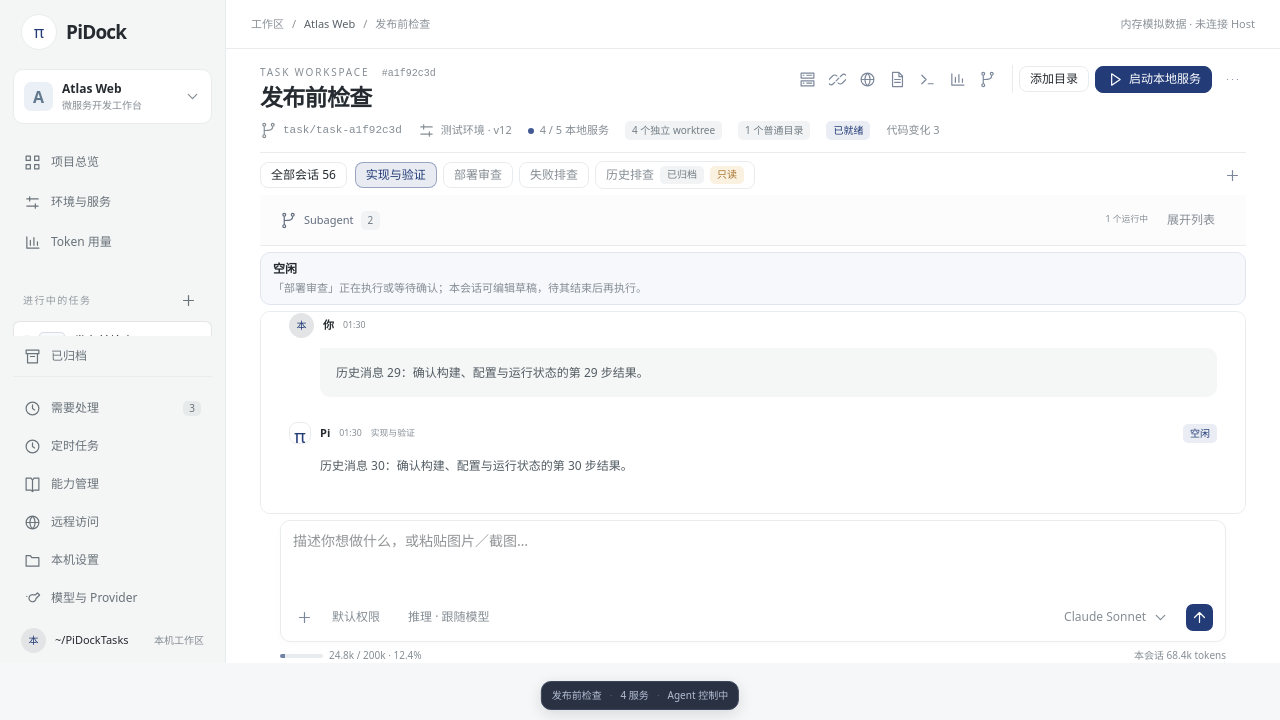
it: task tool area and file panel › shows the shared-directory warning when the link root is selected
(page scrolled)
Check: the heading "发布前检查" is shown, box [260, 81, 372, 113]
Step 1. Click the button named "文件" → click(898, 79), box [884, 65, 912, 93]
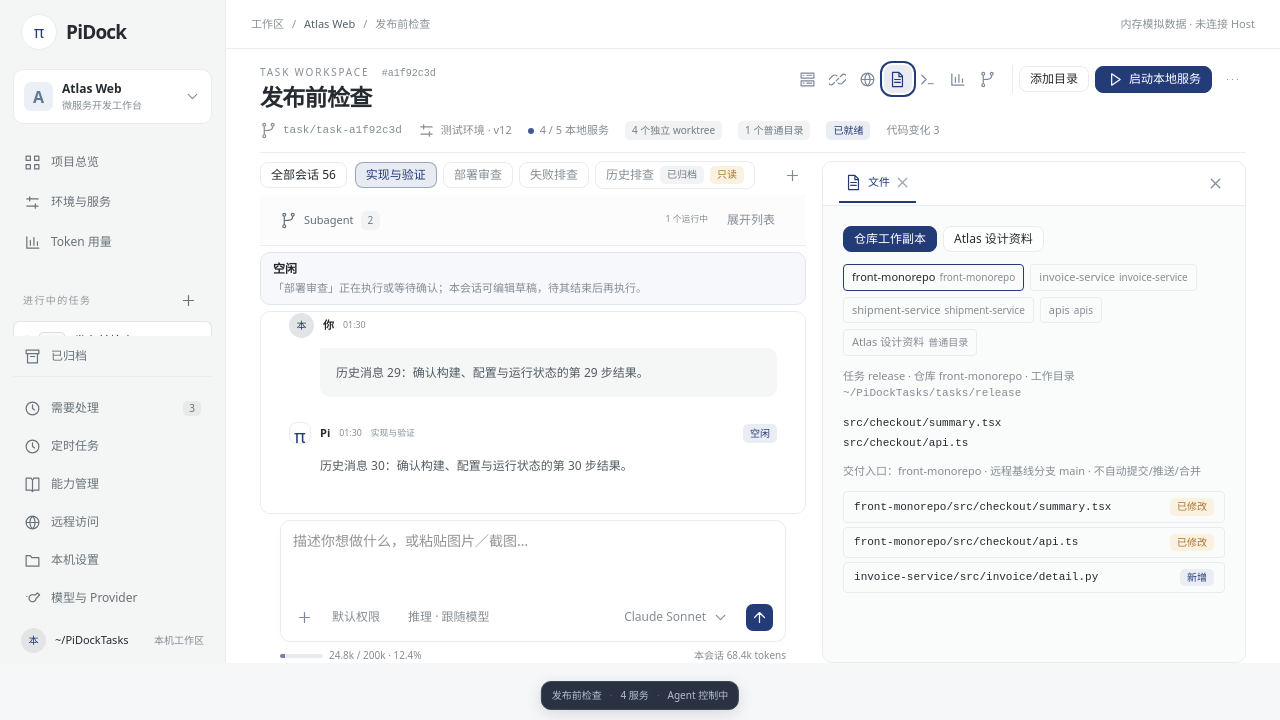
Step 2. Click the button "普通目录" → click(910, 342), box [843, 329, 977, 356]
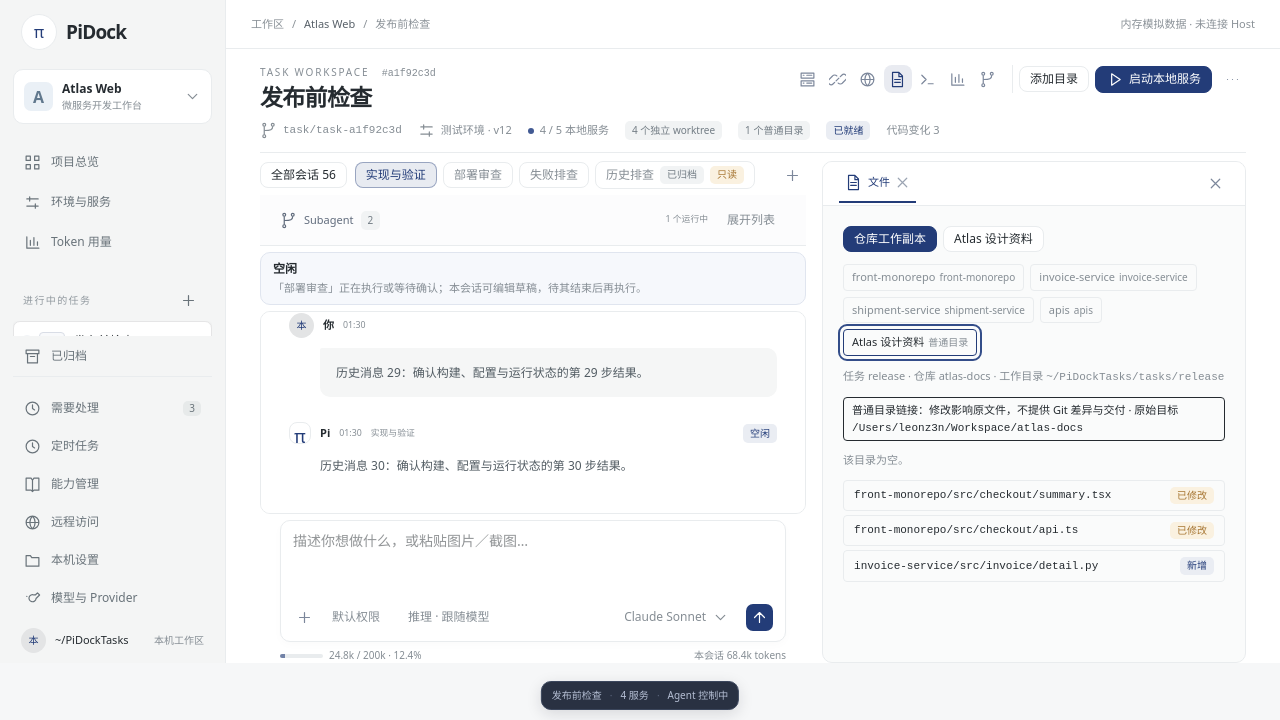
Check: the element with test id "shared-dir-note" shows "修改影响原文件", box [852, 402, 1126, 417]
Check: the element with test id "shared-dir-note" shows "/Users/leonz3n/Workspace/atlas-docs", box [852, 422, 1083, 434]
